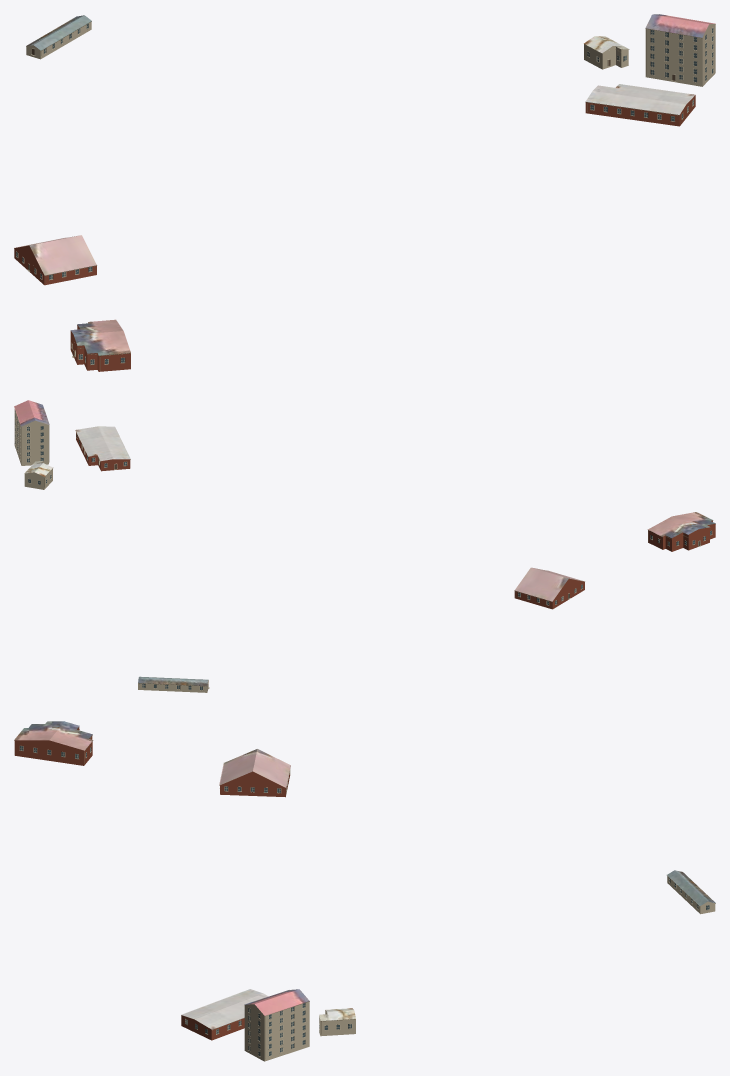
The picture shows the model from 3 angles, top to bottom: view 1: azimuth 30°, elevation 25°; view 2: azimuth 150°, elevation 25°; view 3: azimuth 270°, elevation 25°; orthographic projection. The views are drawn at different scales.
Visible parts, largest first — view 1: -2_-6_609781268_0, -2_-6_1341073792_3; view 2: -2_-6_609781268_0, -2_-6_1341073792_3; view 3: -2_-6_609781268_0, -2_-6_1341073792_3.
Boxes of the visible parts, left/top/right/bottom form: -2_-6_609781268_0: left=14, top=14, right=715, bottom=371; -2_-6_1341073792_3: left=26, top=22, right=715, bottom=86; -2_-6_609781268_0: left=14, top=400, right=715, bottom=690; -2_-6_1341073792_3: left=14, top=409, right=208, bottom=692; -2_-6_609781268_0: left=14, top=721, right=715, bottom=1059; -2_-6_1341073792_3: left=244, top=876, right=715, bottom=1061.
Bounding box in the file's own units: 285 × 31.73 × 246.
11 materials, 1 textured.
